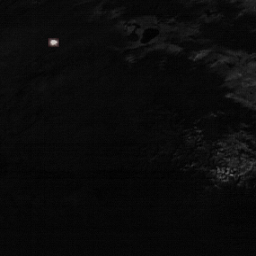Target: (48, 38, 59, 46)
